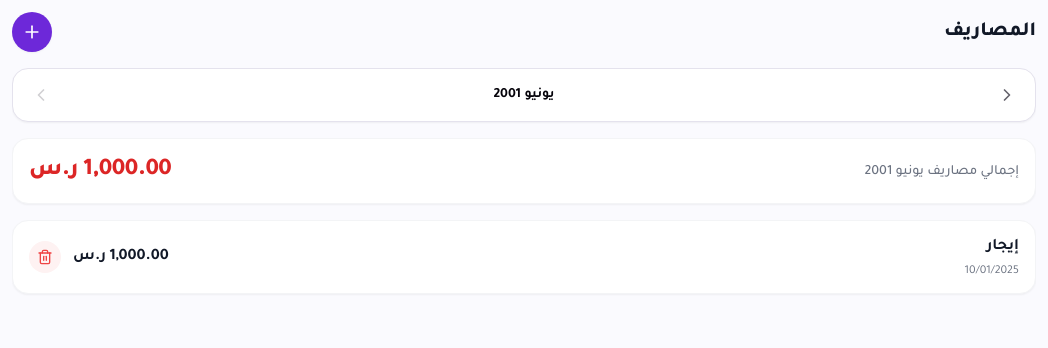
it: صفحة المصاريف (Expenses) › حذف المصروف › يعرض خطأ عند فشل الحذف
expect the text "إيجار" is shown: met, box left=986, top=239, right=1019, bottom=255
What coordinates should you click on to do the following:
click the button named "حذف"
I would click on:
 (45, 257)
Its box is left=29, top=241, right=61, bottom=273.
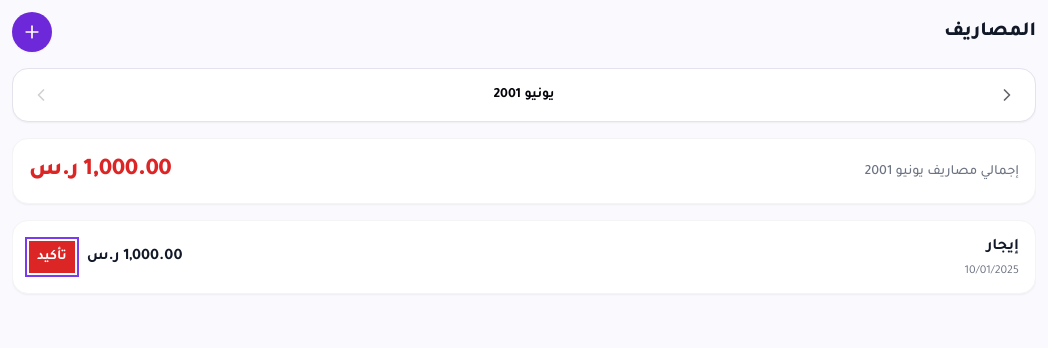
What coordinates should you click on to do the following:
click the button with aria-label "تأكيد الحذف"
I would click on:
 (52, 257)
Its box is left=29, top=241, right=75, bottom=273.
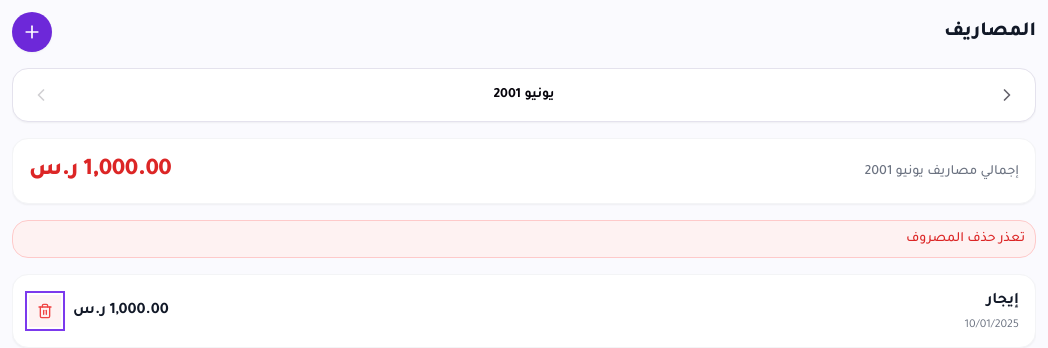
expect the text "تعذر حذف المصروف" is shown: met, box left=906, top=232, right=1025, bottom=246
